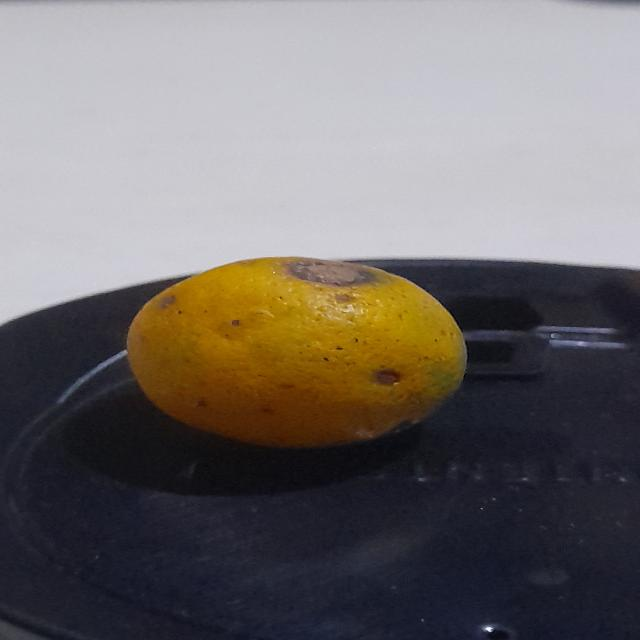black spot: (120, 255, 470, 444)
